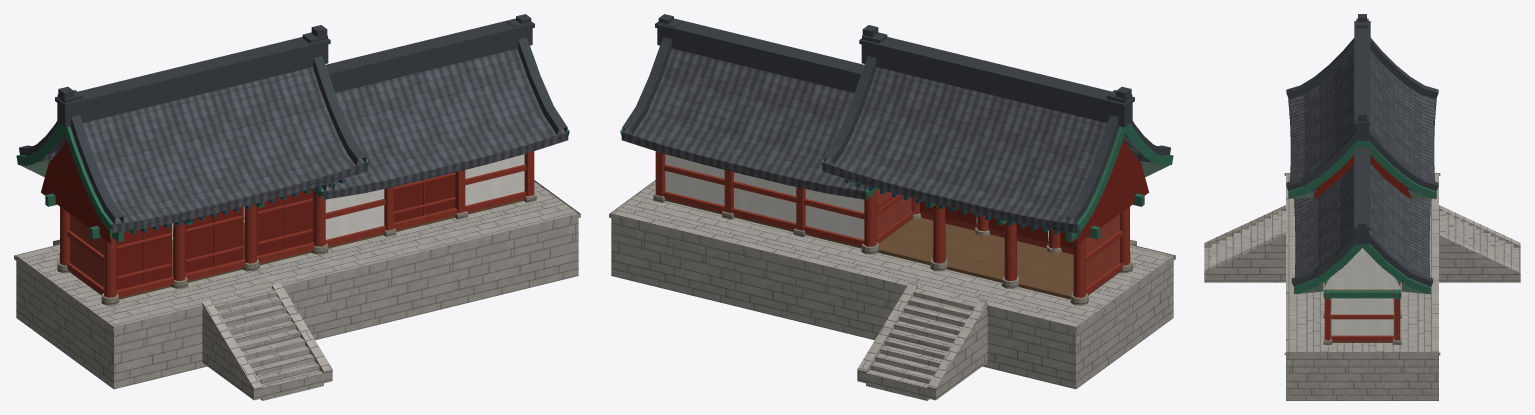
3 views of the same model, side by side, from view 1: azimuth 30°, elevation 25°; view 2: azimuth 150°, elevation 25°; view 3: azimuth 270°, elevation 25° (orthographic). The views are drawn at different scales.
Parts seen in each view (by area): view 1: dongsammun; view 2: dongsammun; view 3: dongsammun.
Boxes of the visible parts, x1,y1,x2,y2 form: dongsammun: [14, 14, 580, 400]; dongsammun: [609, 14, 1175, 400]; dongsammun: [1204, 14, 1520, 400].
Bounding box in the file's own units: 18.46 × 9.87 × 13.65.
Materials: 12 (11 with a texture image).
